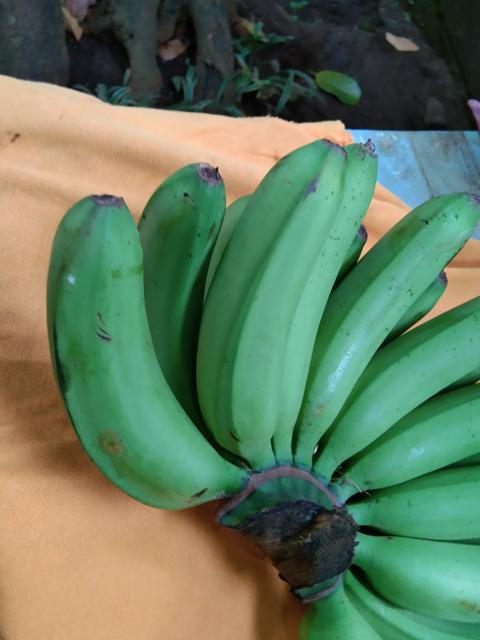freshunripe: (39, 181, 226, 516), (200, 135, 352, 449), (323, 288, 479, 478), (138, 151, 245, 419), (317, 372, 479, 501), (341, 522, 479, 618), (367, 465, 479, 529)
unripe: (288, 186, 474, 465)
